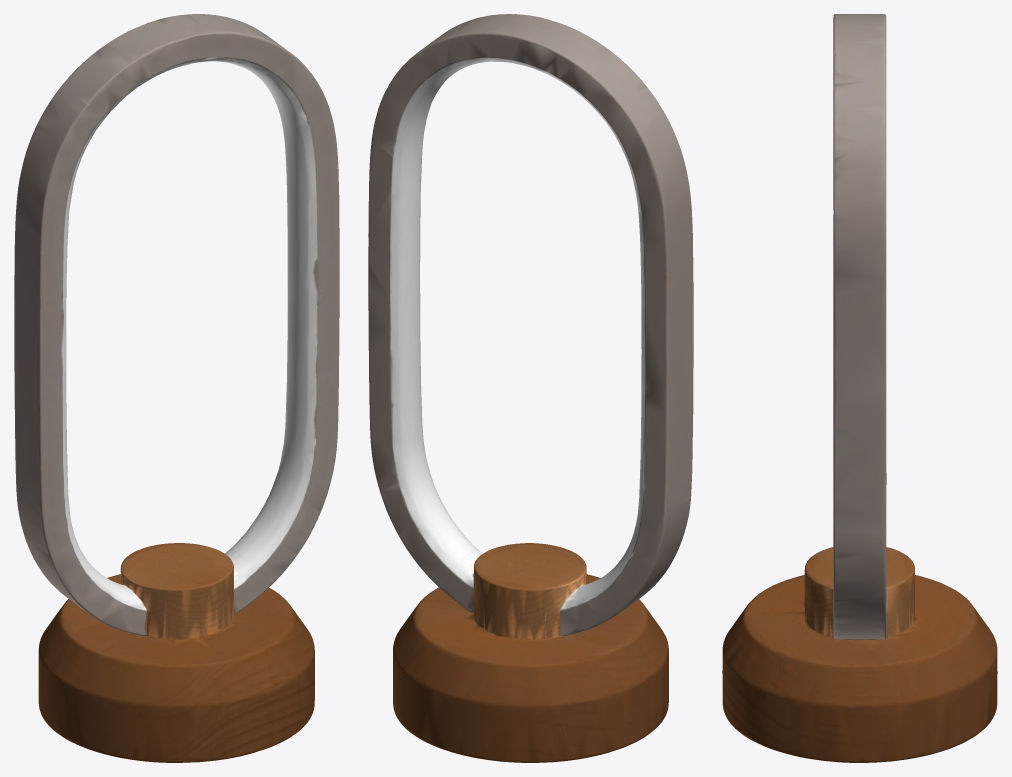
The model's file is lampe-01.glb.
3 renders of one model, left to right at view 1: azimuth 30°, elevation 25°; view 2: azimuth 150°, elevation 25°; view 3: azimuth 270°, elevation 25°, orthographic.
Bounding box in the file's own units: 0.8817 × 1.9 × 0.7016.
Materials: 1 (1 with a texture image).
